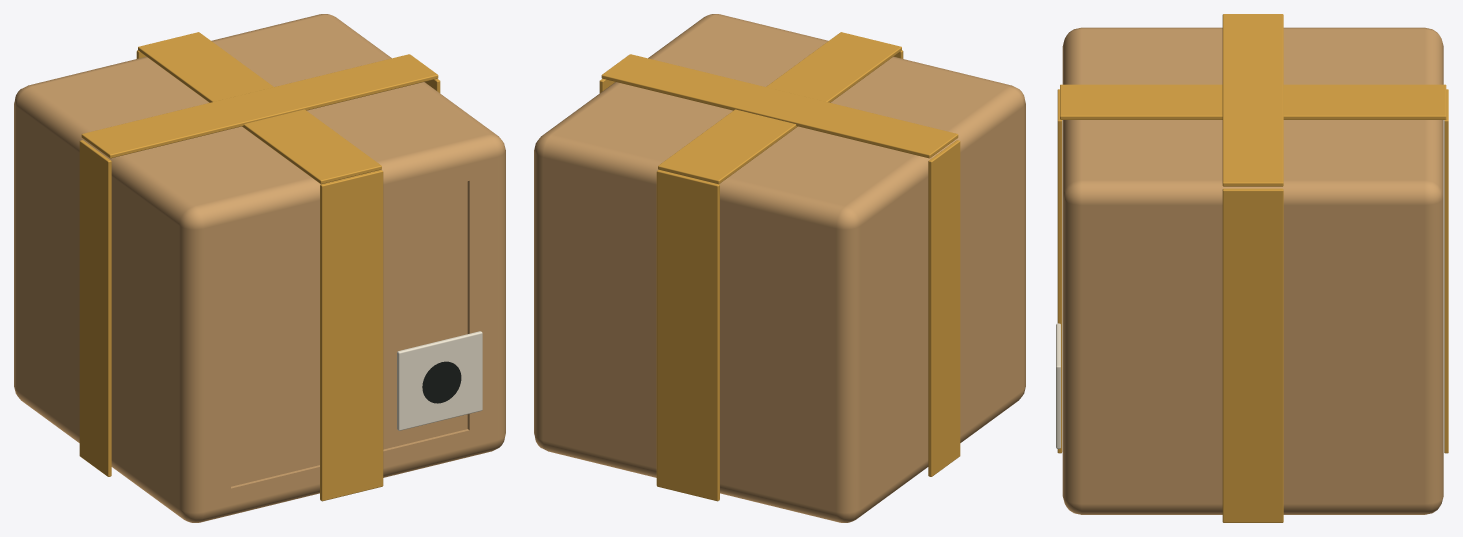
File: play-parcel-small-yellow.glb
The picture shows the model from 3 angles, left to right: view 1: azimuth 30°, elevation 25°; view 2: azimuth 150°, elevation 25°; view 3: azimuth 270°, elevation 25°; orthographic projection. The views are drawn at different scales.
Parts seen in each view (by area): view 1: Parcel_Carton, Parcel_Tape_Front_Back_007, Parcel_Tape_Top_Cross, Parcel_Tape_Sides_-00725, Parcel_Tape_Top_Length, Parcel_Paper_Label, Parcel_Label_Circle; view 2: Parcel_Carton, Parcel_Tape_Front_Back_-007, Parcel_Tape_Top_Cross, Parcel_Tape_Sides_-00725, Parcel_Tape_Top_Length; view 3: Parcel_Carton, Parcel_Tape_Sides_00725, Parcel_Tape_Top_Length, Parcel_Tape_Top_Cross, Parcel_Tape_Front_Back_-007, Parcel_Tape_Front_Back_007, Parcel_Paper_Label.
Boxes of the visible parts, x1,y1,x2,y2 form: Parcel_Carton: (14, 14, 505, 522); Parcel_Tape_Front_Back_007: (320, 170, 383, 501); Parcel_Tape_Top_Cross: (81, 54, 438, 158); Parcel_Tape_Sides_-00725: (79, 140, 111, 476); Parcel_Tape_Top_Length: (138, 32, 381, 184); Parcel_Paper_Label: (397, 331, 482, 430); Parcel_Label_Circle: (422, 361, 461, 403); Parcel_Carton: (534, 14, 1025, 522); Parcel_Tape_Front_Back_-007: (656, 170, 719, 501); Parcel_Tape_Top_Cross: (601, 54, 958, 158); Parcel_Tape_Sides_-00725: (928, 140, 960, 476); Parcel_Tape_Top_Length: (658, 32, 901, 184); Parcel_Carton: (1062, 27, 1443, 514); Parcel_Tape_Sides_00725: (1222, 188, 1283, 522); Parcel_Tape_Top_Length: (1060, 84, 1446, 119); Parcel_Tape_Top_Cross: (1222, 14, 1283, 186); Parcel_Tape_Front_Back_-007: (1444, 89, 1448, 453); Parcel_Tape_Front_Back_007: (1057, 89, 1062, 453); Parcel_Paper_Label: (1056, 323, 1060, 448).
Bounding box in the file's own units: 0.1487 × 0.1377 × 0.145.
